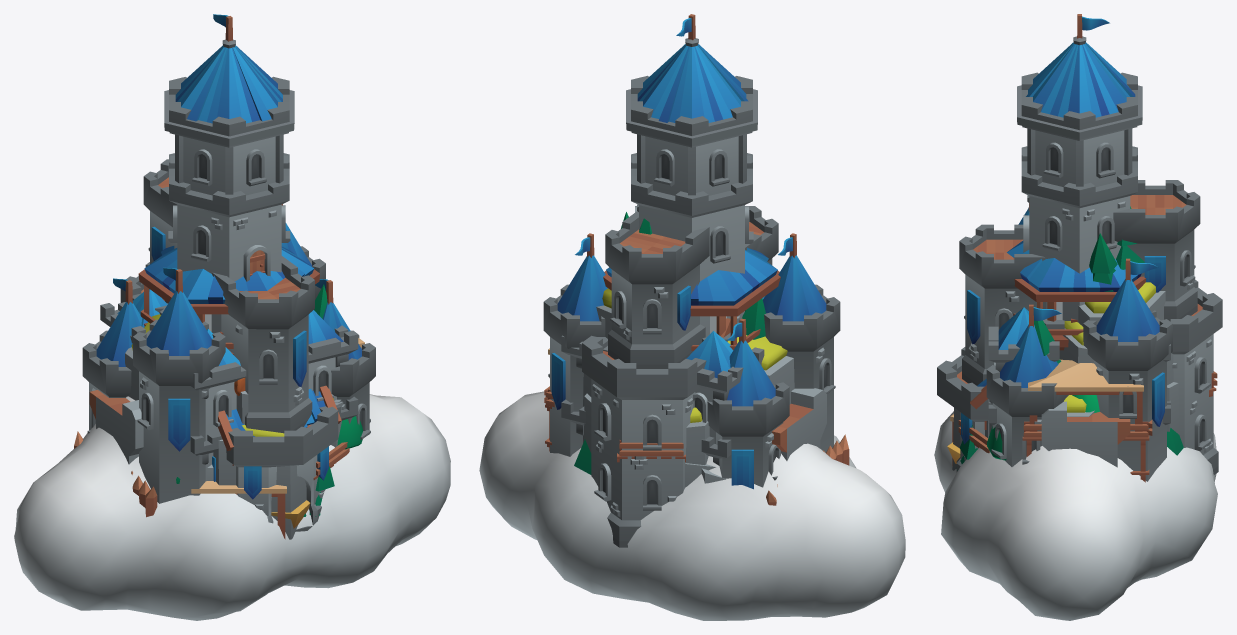
The model's file is world.glb.
3 renders of one model, left to right at view 1: azimuth 30°, elevation 25°; view 2: azimuth 150°, elevation 25°; view 3: azimuth 270°, elevation 25°, orthographic. The views are drawn at different scales.
Visible parts, largest first — view 1: building_castle_blue, cloud_big, building_barracks_blue, building_tower_B_top_blue, mountain_C, building_scaffolding, wall_straight, wall_straight_gate, building_watermill_blue, fence_wood_straight, trees_B_large; view 2: building_castle_blue, cloud_big, building_barracks_blue, building_tower_B_top_blue, mountain_C, mountain_B_grass_trees, wall_straight_gate, wall_straight, building_scaffolding, mountain_C_grass; view 3: building_castle_blue, cloud_big, building_scaffolding, building_tower_B_top_blue, mountain_B_grass_trees, wall_straight, building_barracks_blue, mountain_C, trees_A_large, mountain_B.
Boxes of the visible parts, left/top/right/bottom form: building_castle_blue: left=82, top=14, right=375, bottom=531; cloud_big: left=14, top=394, right=450, bottom=620; building_barracks_blue: left=100, top=289, right=358, bottom=481; building_tower_B_top_blue: left=138, top=245, right=319, bottom=354; mountain_C: left=125, top=350, right=340, bottom=539; building_scaffolding: left=191, top=338, right=364, bottom=539; wall_straight: left=89, top=390, right=139, bottom=464; wall_straight_gate: left=90, top=393, right=143, bottom=464; building_watermill_blue: left=218, top=385, right=341, bottom=465; fence_wood_straight: left=74, top=431, right=157, bottom=517; trees_B_large: left=176, top=416, right=362, bottom=483; building_castle_blue: left=543, top=14, right=840, bottom=547; cloud_big: left=479, top=391, right=905, bottom=620; building_barracks_blue: left=561, top=296, right=764, bottom=465; building_tower_B_top_blue: left=603, top=247, right=780, bottom=350; mountain_C: left=584, top=356, right=794, bottom=465; mountain_B_grass_trees: left=583, top=212, right=765, bottom=487; wall_straight_gate: left=772, top=391, right=817, bottom=460; wall_straight: left=772, top=388, right=826, bottom=448; building_scaffolding: left=544, top=348, right=685, bottom=462; mountain_C_grass: left=690, top=335, right=787, bottom=463; building_castle_blue: left=937, top=14, right=1222, bottom=481; cloud_big: left=934, top=411, right=1217, bottom=620; building_scaffolding: left=950, top=359, right=1217, bottom=482; building_tower_B_top_blue: left=1007, top=240, right=1146, bottom=350; mountain_B_grass_trees: left=1034, top=206, right=1173, bottom=416; wall_straight: left=1041, top=401, right=1130, bottom=467; building_barracks_blue: left=988, top=307, right=1170, bottom=424; mountain_C: left=952, top=382, right=1179, bottom=470; trees_A_large: left=956, top=425, right=1183, bottom=470; mountain_B: left=1059, top=291, right=1165, bottom=416.
Bounding box in the file's own units: 3.61 × 4.89 × 2.28.
1 material, 1 textured.
